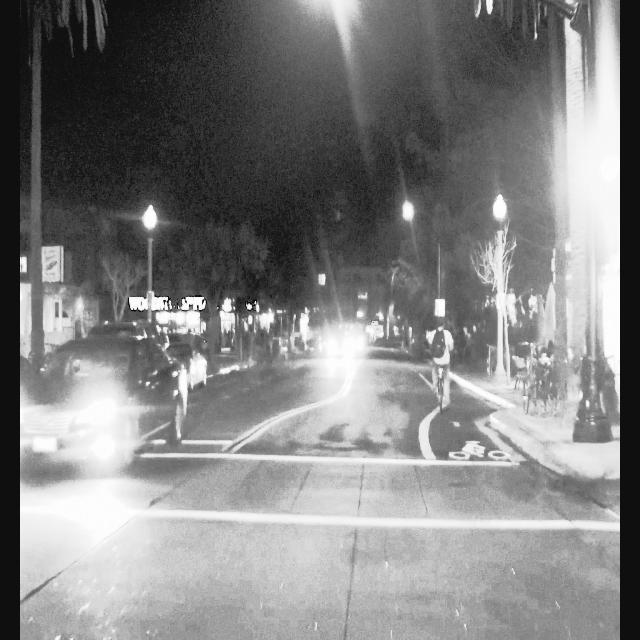Light: (601, 136, 620, 207)
Tree: (556, 0, 588, 424), (474, 221, 517, 385)
